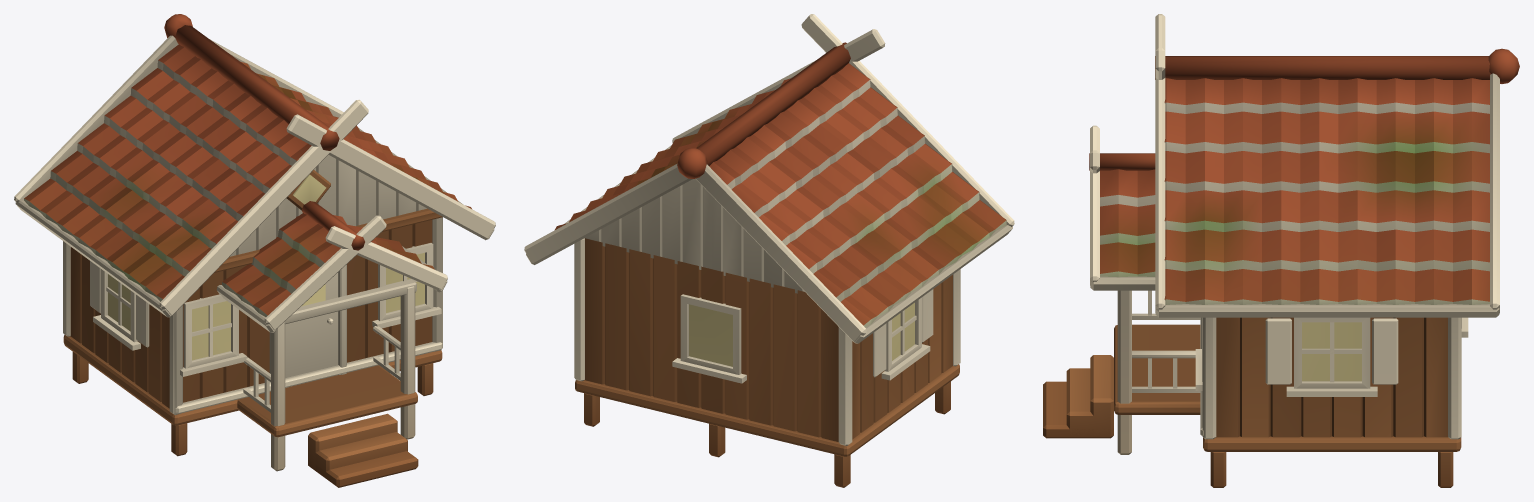
The model's file is rumah_b.glb.
The picture shows the model from 3 angles, left to right: view 1: azimuth 30°, elevation 25°; view 2: azimuth 150°, elevation 25°; view 3: azimuth 270°, elevation 25°; orthographic projection. The views are drawn at different scales.
Parts seen in each view (by area): view 1: rumah_b_mesh; view 2: rumah_b_mesh; view 3: rumah_b_mesh.
Part boxes in pixels (box(x1,y1,x2,y2)): rumah_b_mesh: box(14, 14, 495, 487); rumah_b_mesh: box(524, 14, 1014, 487); rumah_b_mesh: box(1043, 14, 1519, 487).
Bounding box in the file's own units: 4.9 × 4.67 × 5.25.
